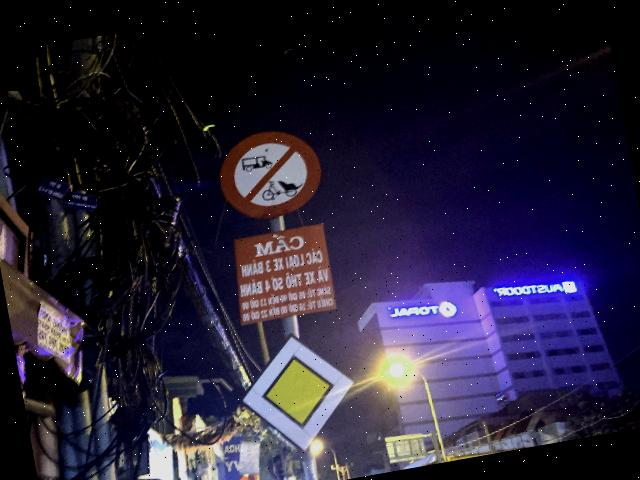bat-dau-duong-uu-tien: (228, 322, 366, 464)
cam-xe-3-banh-xe-tho-so-4-banh: (212, 122, 328, 225)
